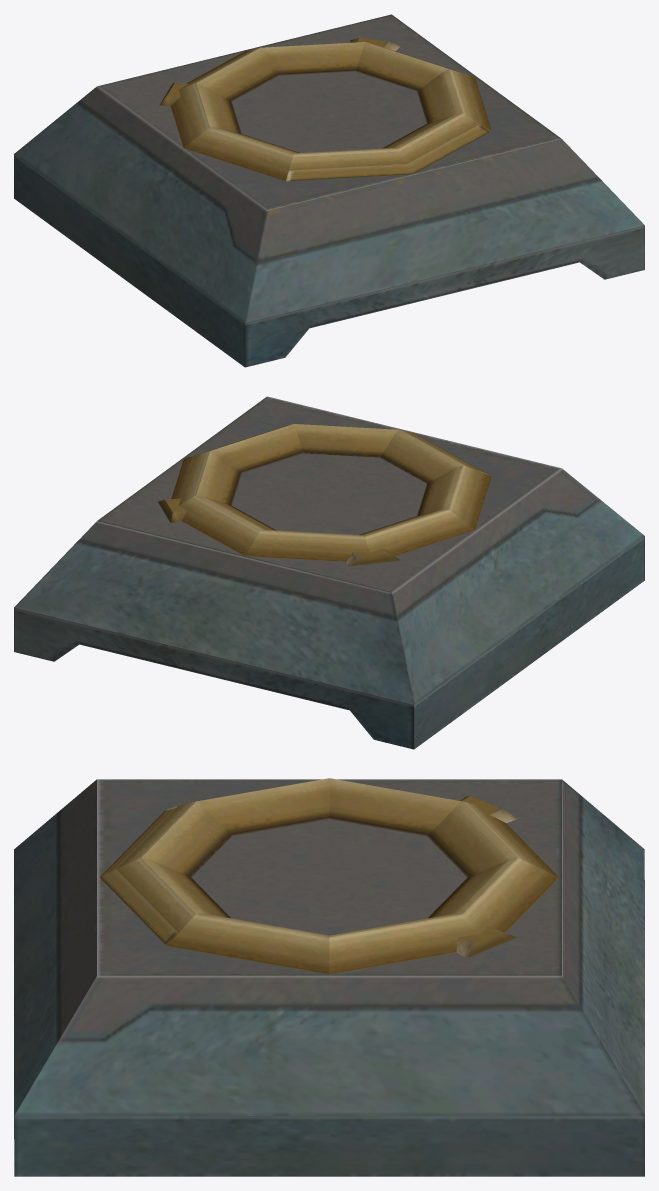
The model's file is con_gen_crate_basic_s3_l0.fbx.
3 renders of one model, top to bottom at view 1: azimuth 30°, elevation 25°; view 2: azimuth 150°, elevation 25°; view 3: azimuth 270°, elevation 25°, orthographic. The views are drawn at different scales.
Visible parts, largest first — view 1: mesh_node; view 2: mesh_node; view 3: mesh_node.
Part boxes in pixels (x1,y1,x2,y2): mesh_node: (14, 14, 644, 367); mesh_node: (14, 396, 644, 749); mesh_node: (14, 778, 644, 1176).
Size of the model in its own units: 0.6959 by 0.226 by 0.6959.
